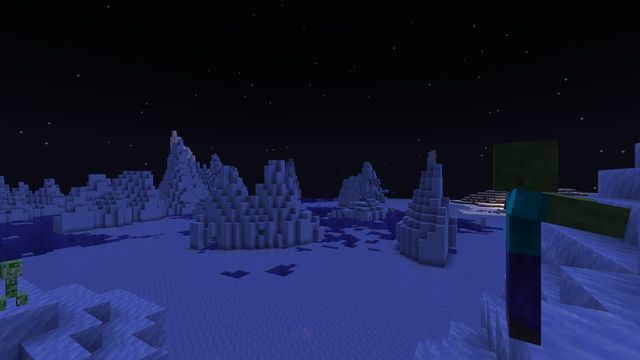creepers: (0, 256, 25, 311)
squelettes: (431, 150, 435, 163)
zombies: (487, 144, 568, 355)
